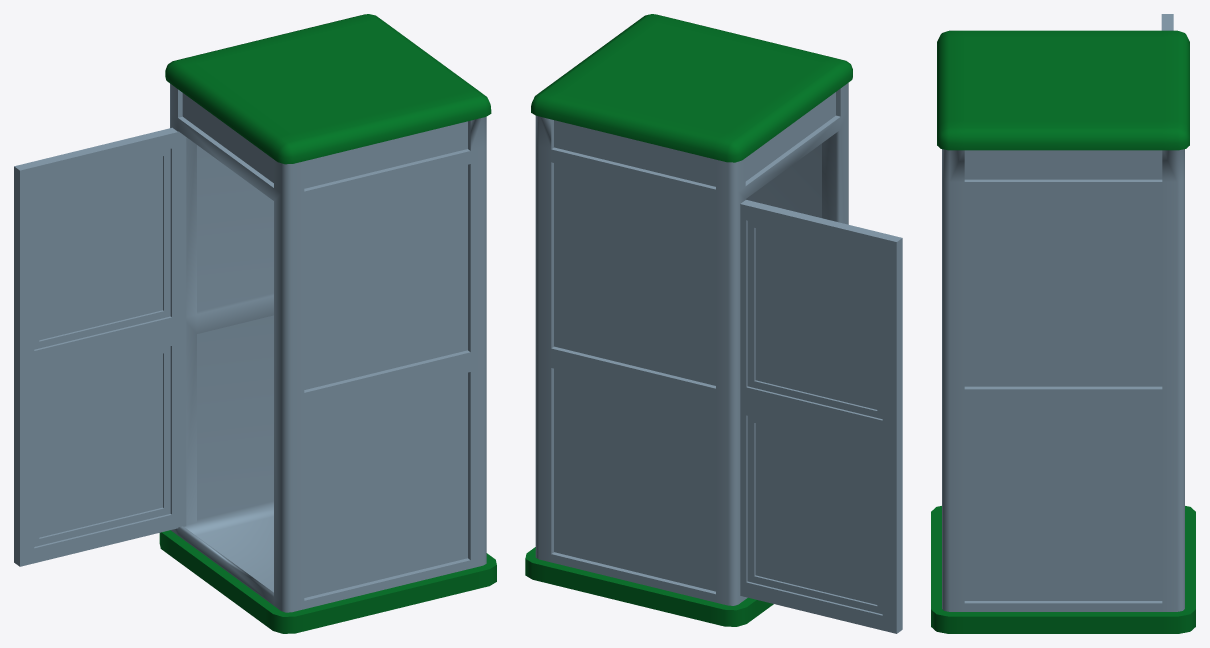
The model's file is phone_booth.glb.
3 views of the same model, side by side, from view 1: azimuth 30°, elevation 25°; view 2: azimuth 150°, elevation 25°; view 3: azimuth 270°, elevation 25° (orthographic). The views are drawn at different scales.
Parts seen in each view (by area): view 1: phone_booth, Door; view 2: phone_booth, Door; view 3: phone_booth.
Part boxes in pixels (x1,y1,x2,y2): phone_booth: [159, 14, 496, 633]; Door: [14, 127, 186, 566]; phone_booth: [525, 14, 852, 626]; Door: [740, 200, 902, 633]; phone_booth: [931, 30, 1195, 633].
Bounding box in the file's own units: 1.99 × 2.48 × 1.19.
